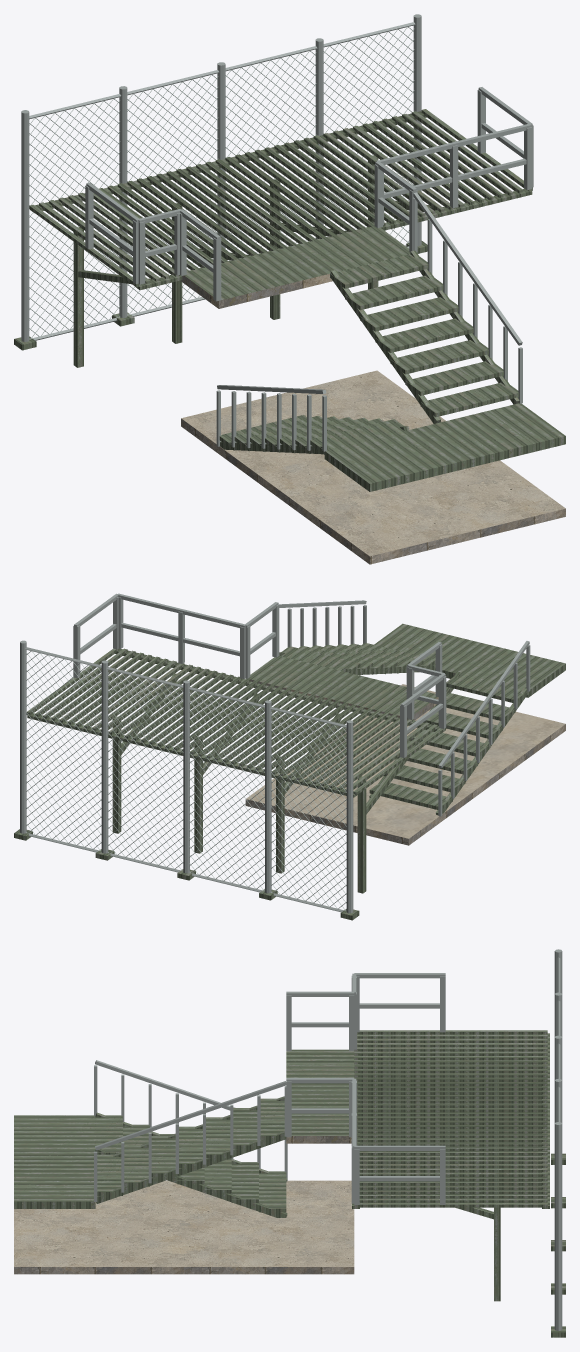
The model's file is cyclone-catwalk-platform.gltf.
3 renders of one model, top to bottom at view 1: azimuth 30°, elevation 25°; view 2: azimuth 150°, elevation 25°; view 3: azimuth 270°, elevation 25°, orthographic. The views are drawn at different scales.
Visible parts, largest first — view 1: walkway-L1-metal, stairs-L0-metal, floor-L0-plaster, fence-L0-wire, guards-L1-iron, fence-L0-iron, stairs-L0-iron, structure-L0-metal, floor-L0-stone, walkway-L1-stone; view 2: walkway-L1-metal, fence-L0-wire, stairs-L0-metal, floor-L0-plaster, fence-L0-iron, guards-L1-iron, structure-L0-metal, stairs-L0-iron, floor-L0-stone, fence-L0-metal; view 3: walkway-L1-metal, floor-L0-plaster, stairs-L0-metal, guards-L1-iron, stairs-L0-iron, fence-L0-iron, floor-L0-stone, structure-L0-metal, fence-L0-metal, walkway-L1-stone.
Part boxes in pixels (left/top/right/bottom): walkway-L1-metal: left=29, top=109, right=532, bottom=299; stairs-L0-metal: left=219, top=250, right=565, bottom=491; floor-L0-plaster: left=181, top=370, right=565, bottom=556; fence-L0-wire: left=29, top=26, right=414, bottom=338; guards-L1-iron: left=85, top=87, right=533, bottom=301; fence-L0-iron: left=21, top=14, right=421, bottom=341; stairs-L0-iron: left=216, top=192, right=522, bottom=451; structure-L0-metal: left=73, top=155, right=445, bottom=367; floor-L0-stone: left=181, top=418, right=565, bottom=564; walkway-L1-stone: left=181, top=274, right=332, bottom=308; walkway-L1-metal: left=26, top=648, right=445, bottom=797; fence-L0-wire: left=26, top=651, right=346, bottom=910; stairs-L0-metal: left=279, top=623, right=565, bottom=815; floor-L0-plaster: left=246, top=684, right=565, bottom=838; fence-L0-iron: left=20, top=640, right=353, bottom=913; guards-L1-iron: left=73, top=593, right=446, bottom=757; structure-L0-metal: left=112, top=673, right=422, bottom=893; stairs-L0-iron: left=279, top=600, right=530, bottom=816; floor-L0-stone: left=245, top=724, right=565, bottom=845; fence-L0-metal: left=14, top=829, right=359, bottom=920; walkway-L1-metal: left=286, top=1030, right=549, bottom=1208; floor-L0-plaster: left=14, top=1180, right=354, bottom=1266; stairs-L0-metal: left=14, top=1096, right=287, bottom=1217; guards-L1-iron: left=286, top=973, right=445, bottom=1204; stairs-L0-iron: left=94, top=1060, right=287, bottom=1201; fence-L0-iron: left=554, top=949, right=562, bottom=1330; floor-L0-stone: left=14, top=1267, right=354, bottom=1274; structure-L0-metal: left=455, top=1207, right=500, bottom=1301; fence-L0-metal: left=551, top=1153, right=565, bottom=1337; walkway-L1-stone: left=286, top=1136, right=351, bottom=1143.
Bounding box in the file's own units: 6.22 × 3.54 × 8.11.
5 materials, 3 textured.
